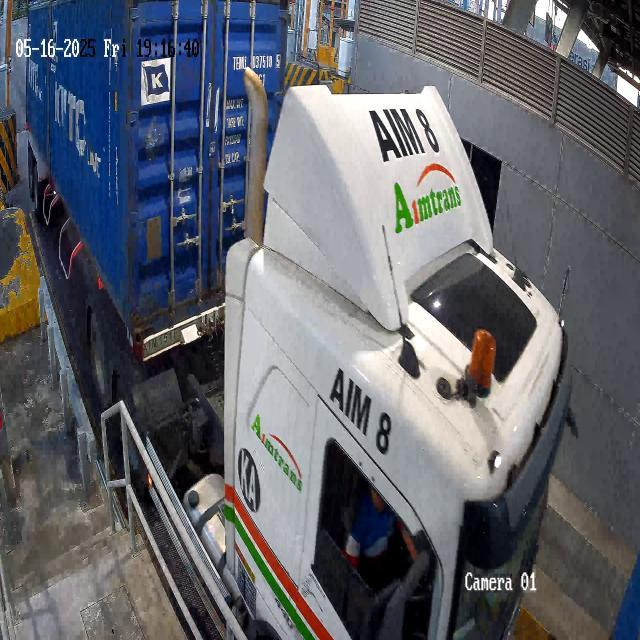container_number: (227, 49, 283, 73)
